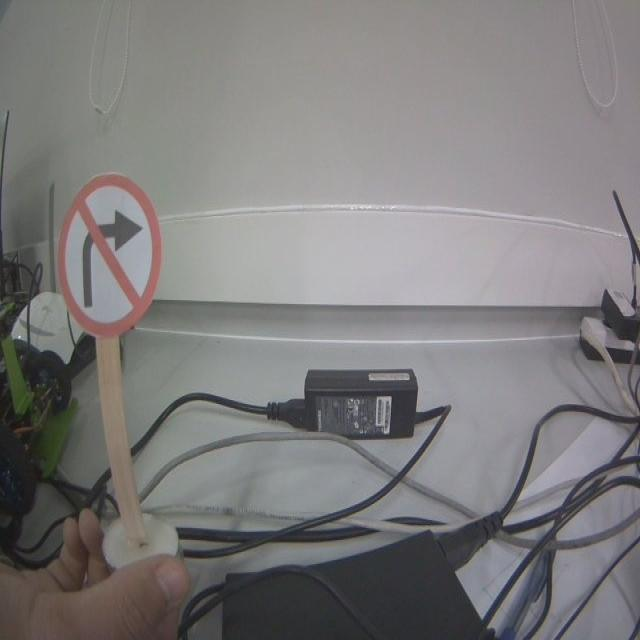Dilarang Belok Kanan: (57, 172, 162, 336)
